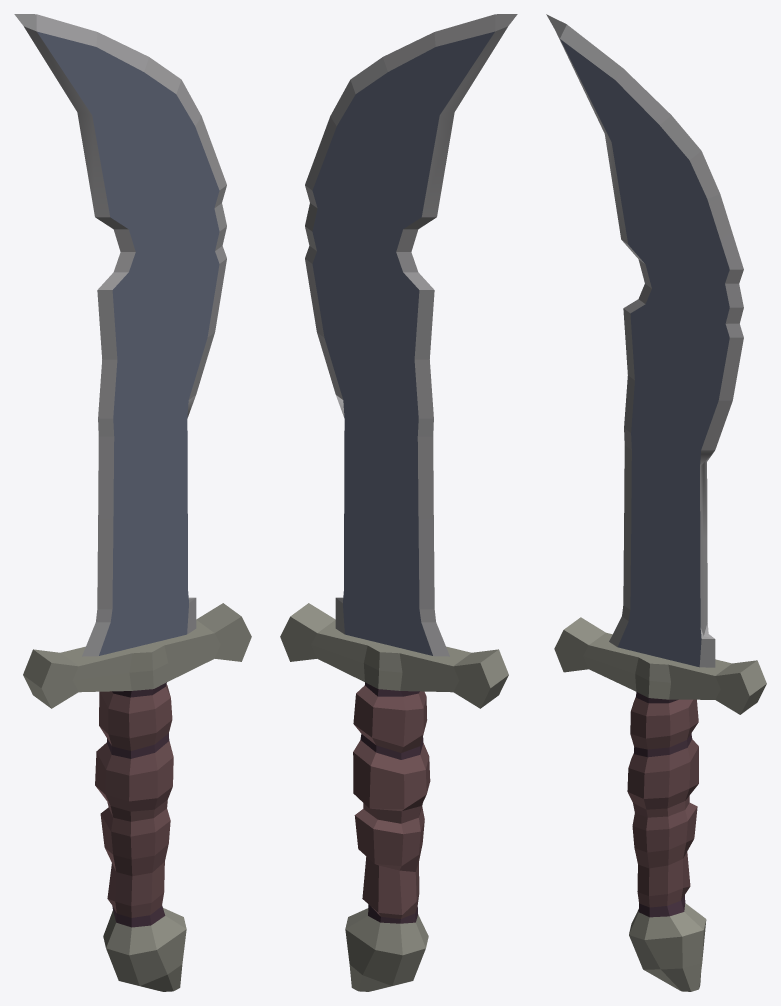
File: Pirate Saber.fbx
3 views of the same model, side by side, from view 1: azimuth 30°, elevation 25°; view 2: azimuth 150°, elevation 25°; view 3: azimuth 330°, elevation 25° (orthographic). The views are drawn at different scales.
Parts seen in each view (by area): view 1: Dagger; view 2: Dagger; view 3: Dagger.
Part boxes in pixels (x1,y1,x2,y2): Dagger: (14, 14, 251, 991); Dagger: (280, 14, 517, 991); Dagger: (546, 14, 766, 991).
Bounding box in the file's own units: 32.27 × 136 × 10.24.
